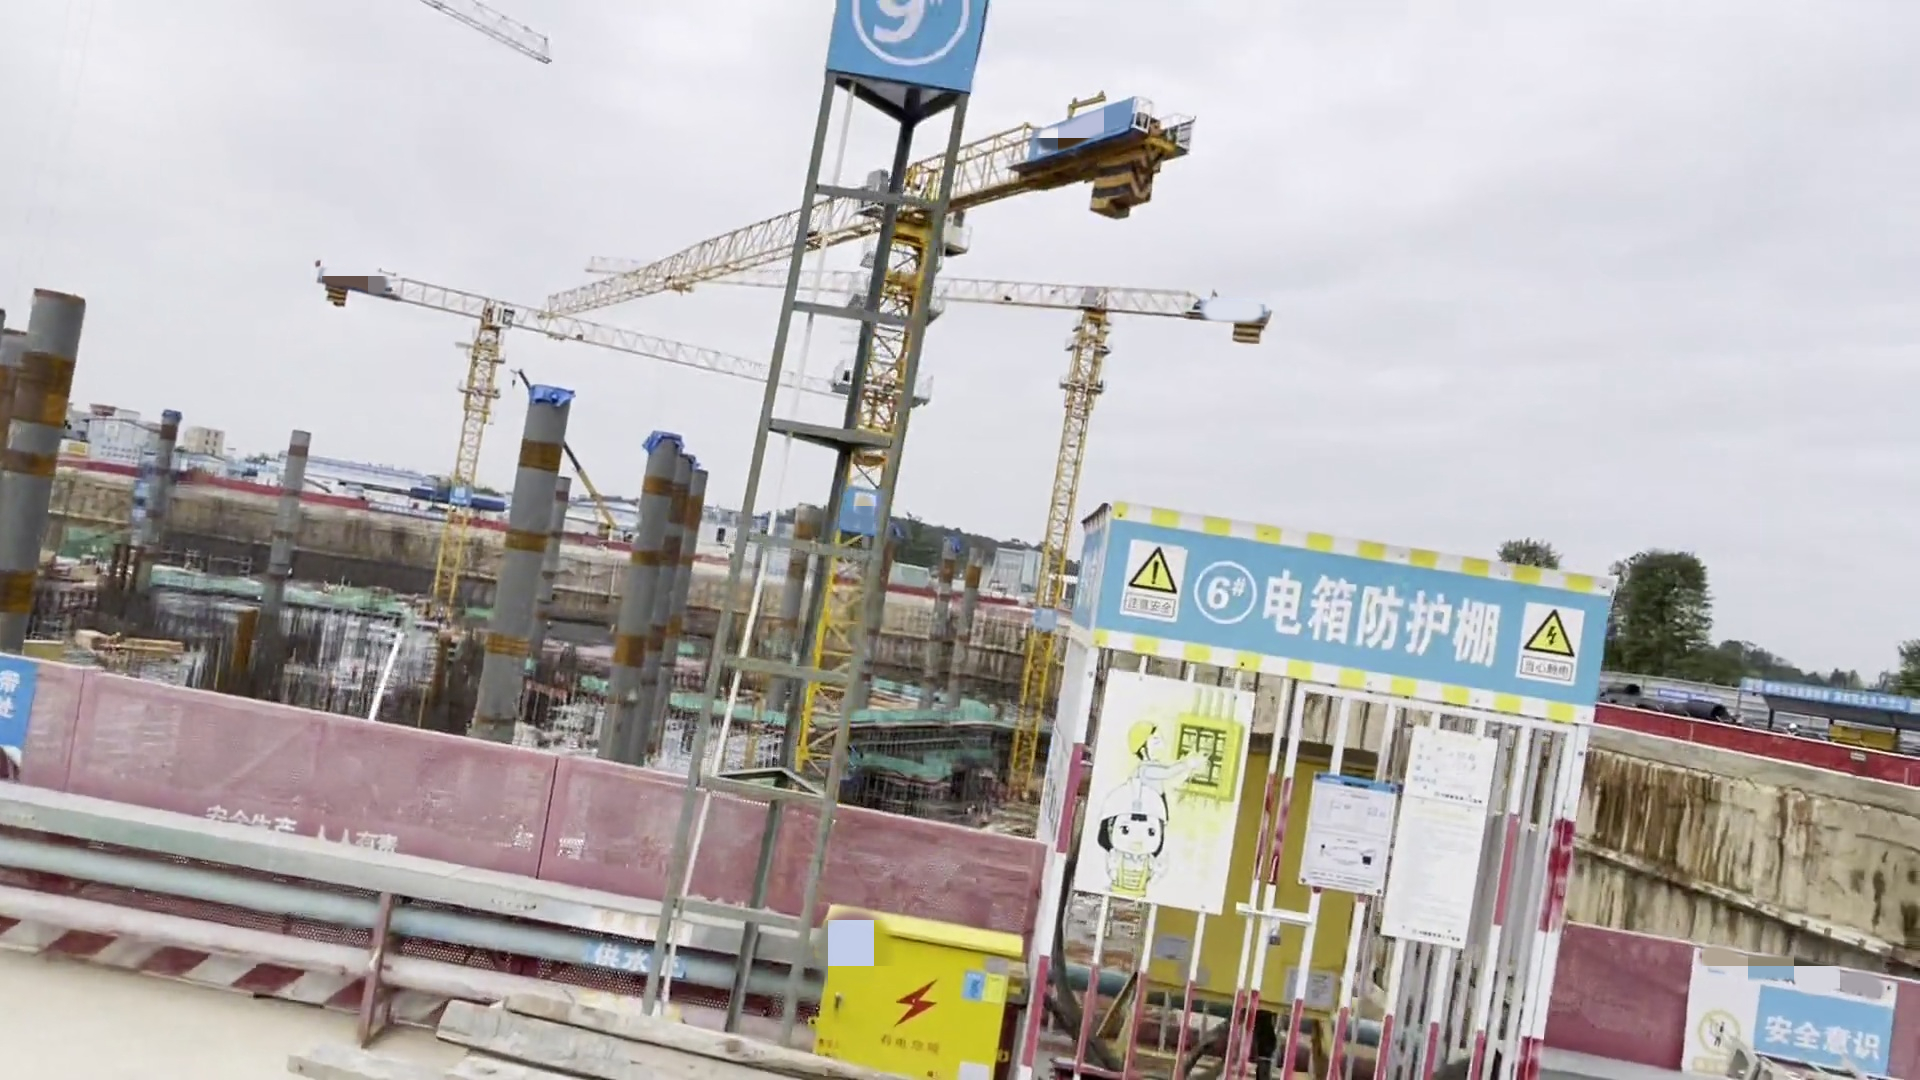ebox: (1091, 738, 1386, 1080), (808, 899, 1027, 1080)
fence: (1, 657, 1038, 1017), (1538, 916, 1920, 1077)
slogan: (1516, 603, 1588, 688), (1120, 541, 1188, 622)
